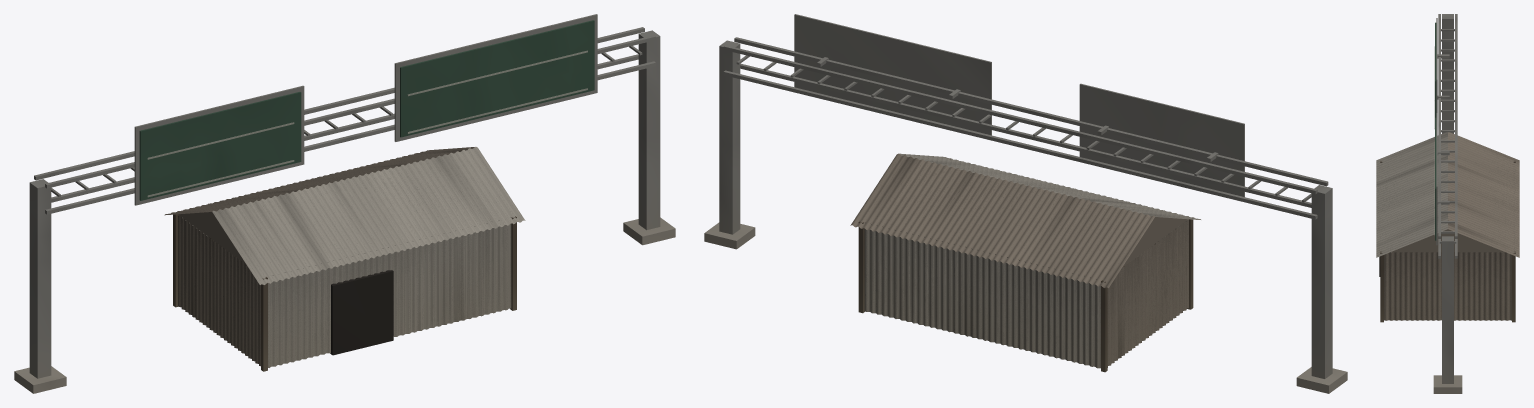
Rendered from manmade.glb.
The picture shows the model from 3 angles, left to right: view 1: azimuth 30°, elevation 25°; view 2: azimuth 150°, elevation 25°; view 3: azimuth 270°, elevation 25°; orthographic projection. The views are drawn at different scales.
Visible parts, largest first — view 1: shed, gantry; view 2: shed, gantry; view 3: shed, gantry.
Boxes of the visible parts, bbox=[...] form: shed: bbox=[164, 147, 525, 371]; gantry: bbox=[14, 14, 675, 393]; shed: bbox=[850, 153, 1200, 372]; gantry: bbox=[704, 14, 1347, 393]; shed: bbox=[1376, 132, 1519, 322]; gantry: bbox=[1433, 14, 1462, 393].
Bounding box in the file's own units: 23.2 × 8.44 × 6.
